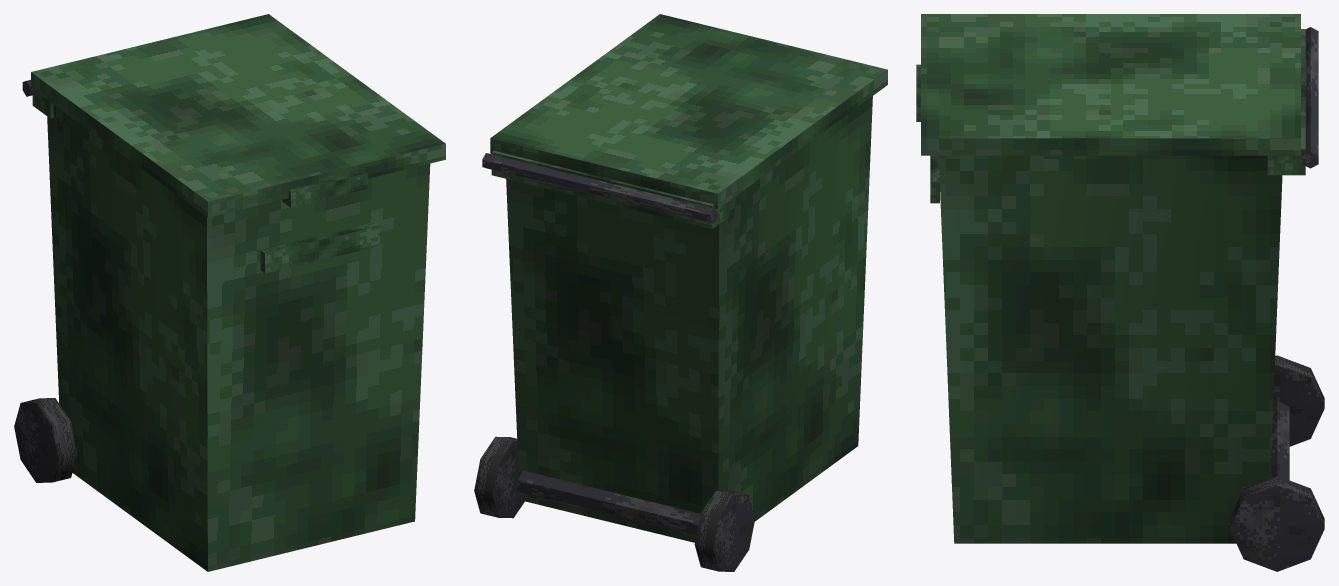
The model's file is wheelie_bin_green.glb.
3 views of the same model, side by side, from view 1: azimuth 30°, elevation 25°; view 2: azimuth 150°, elevation 25°; view 3: azimuth 270°, elevation 25° (orthographic). The views are drawn at different scales.
Parts seen in each view (by area): view 1: wheelie_bin_green, wheelie_bin_green_lid; view 2: wheelie_bin_green, wheelie_bin_green_lid; view 3: wheelie_bin_green, wheelie_bin_green_lid.
Part boxes in pixels (x1,y1,x2,y2): wheelie_bin_green: [14, 80, 430, 571]; wheelie_bin_green_lid: [31, 14, 445, 217]; wheelie_bin_green: [474, 96, 872, 571]; wheelie_bin_green_lid: [490, 14, 887, 208]; wheelie_bin_green: [930, 27, 1324, 571]; wheelie_bin_green_lid: [916, 14, 1300, 155].
Size of the model in its own units: 0.65 by 1 by 0.86.
2 materials, 2 textured.
